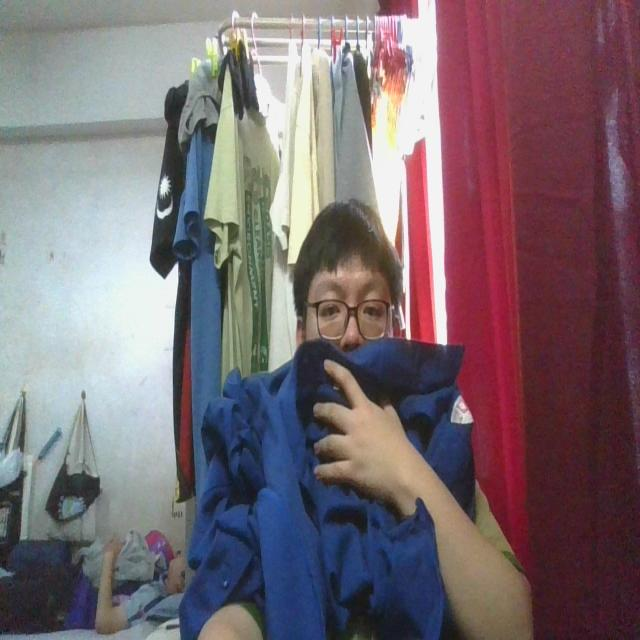person_without_labcoat: (180, 200, 532, 639)
